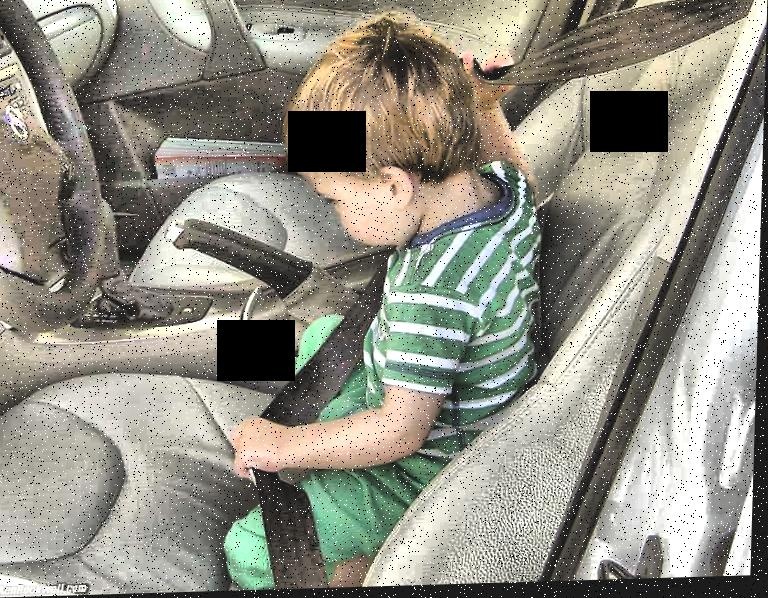seatbelt: (223, 243, 443, 537)
